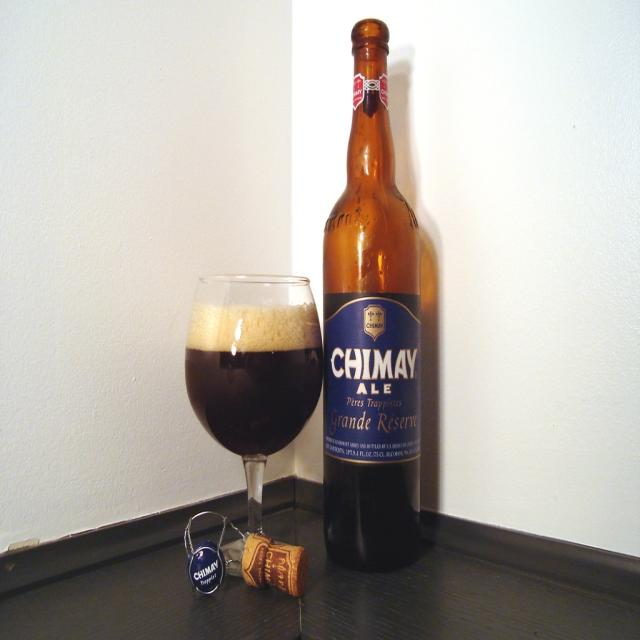chimay: (323, 296, 425, 464), (194, 561, 221, 583)
